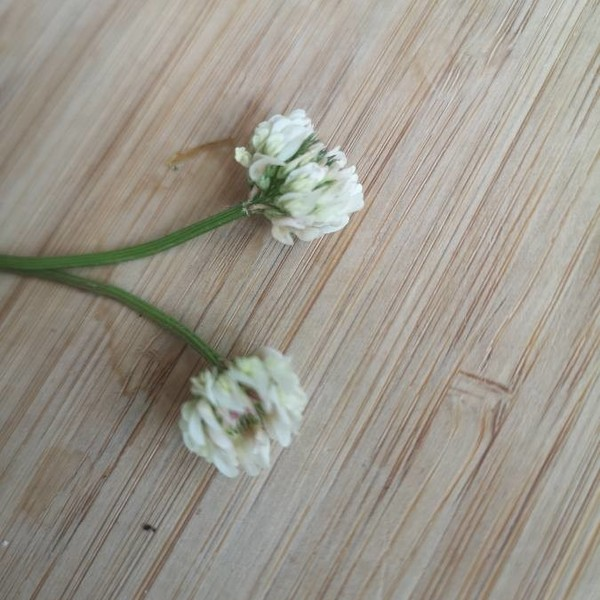obstacle: (23, 102, 383, 471)
